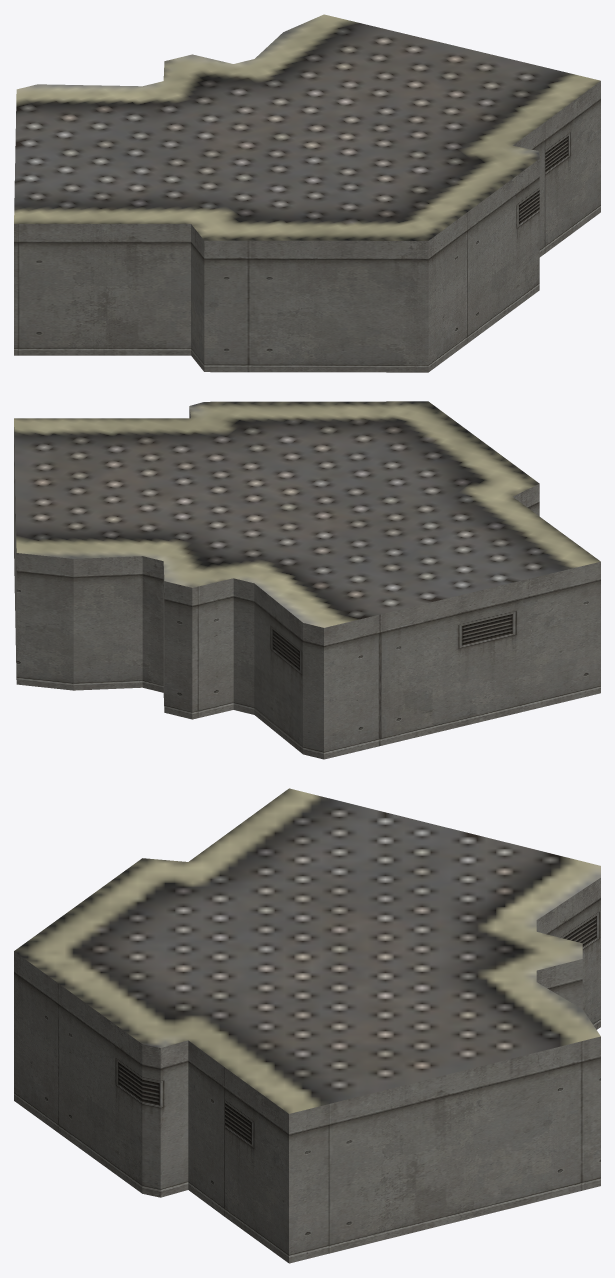
Rendered from building_medium_a_34.glb.
3 views of the same model, one above another, from view 1: azimuth 30°, elevation 25°; view 2: azimuth 150°, elevation 25°; view 3: azimuth 270°, elevation 25° (orthographic). The views are drawn at different scales.
Visible parts, largest first — view 1: buildings/saxarba/building_medium/building_medium_a_34; view 2: buildings/saxarba/building_medium/building_medium_a_34; view 3: buildings/saxarba/building_medium/building_medium_a_34.
Boxes of the visible parts, <box> form: buildings/saxarba/building_medium/building_medium_a_34: <box>14,14,600,372</box>; buildings/saxarba/building_medium/building_medium_a_34: <box>14,401,600,759</box>; buildings/saxarba/building_medium/building_medium_a_34: <box>14,788,600,1263</box>.
Size of the model in its own units: 84 by 18 by 64.
